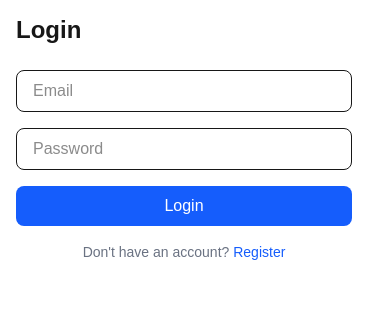
it: LoginPage › switches to register form
Click the button "Register".
click(259, 252)  # box [233,242,285,262]
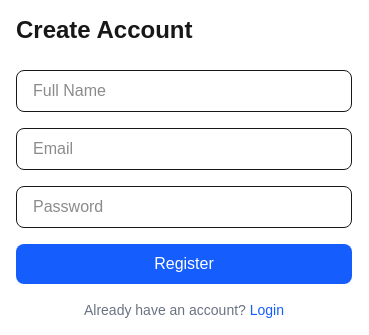
Result: the heading "Create Account" is shown at [16,16,192,43]
Result: the field with placeholder "Full Name" is shown at [16,70,352,112]
